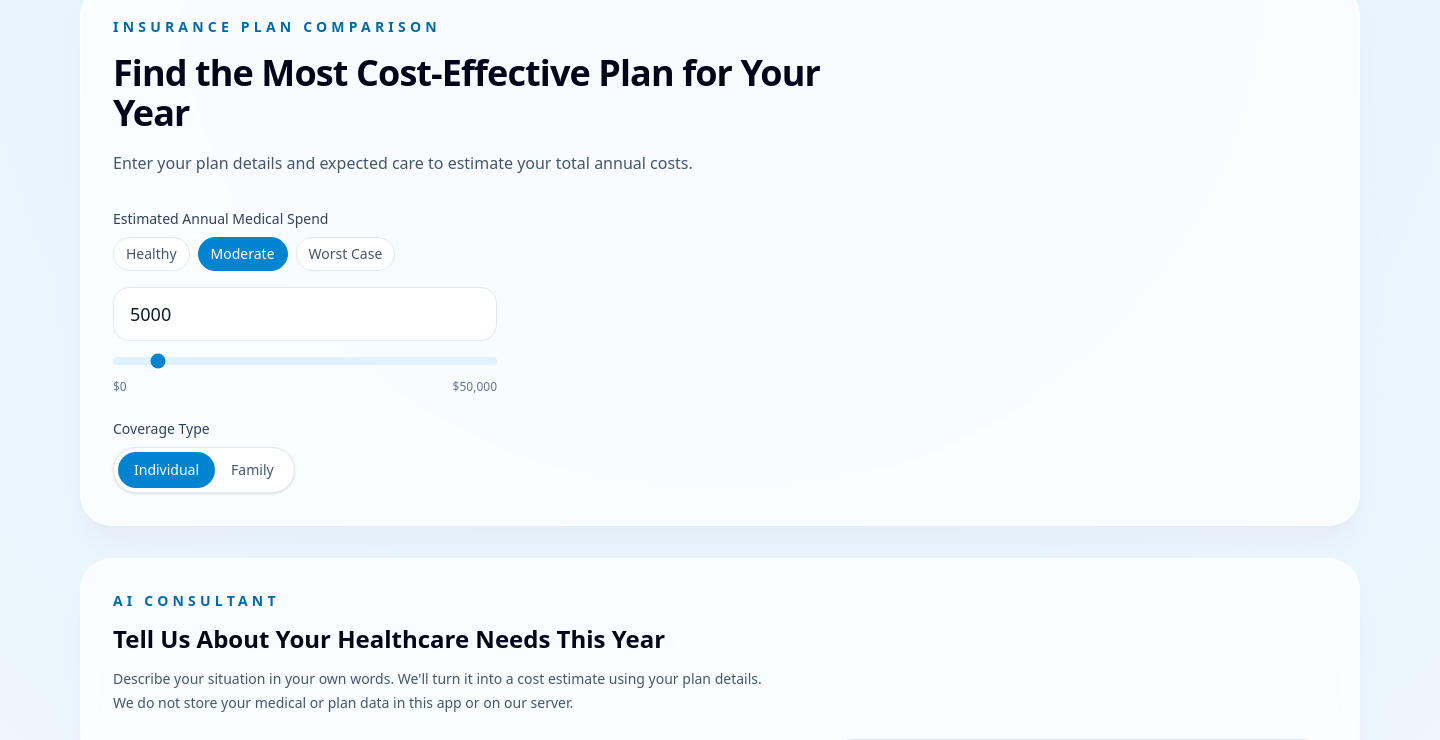
it: App integration › keeps the estimated annual medical spend input synced with the slider
The width and height of the screenshot is (1440, 740).
Set the slider named "Estimated Annual Medical Spend Slider" to "0" at (121, 361), box [113,357,497,365]
(page scrolled)
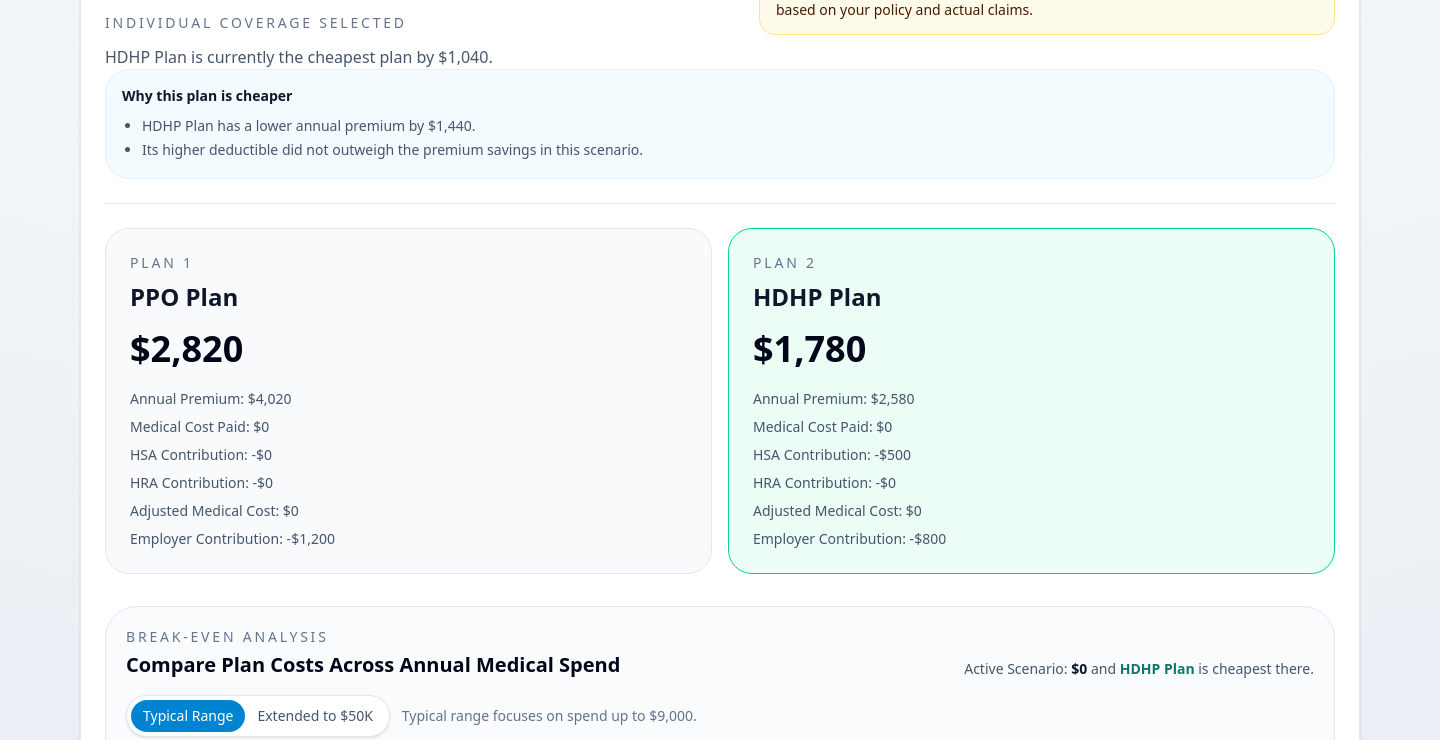
Expected: the text "$2,820" is shown, [130,324,243,373]
